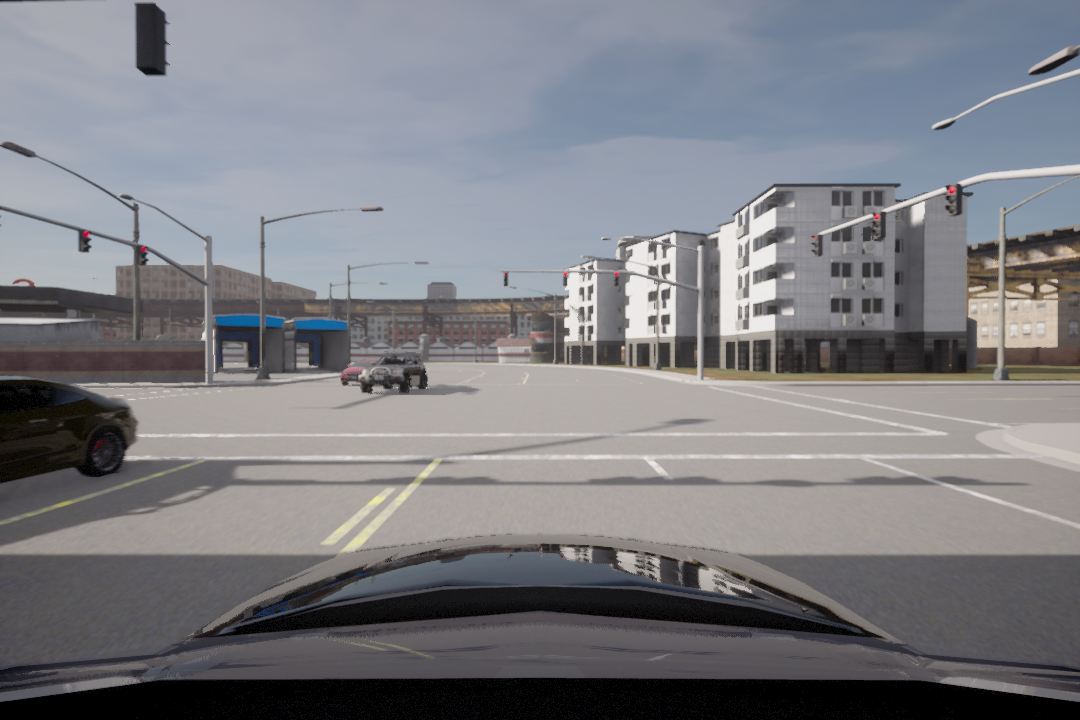TrafficLight: (946, 185, 965, 217), (75, 231, 94, 256), (871, 211, 884, 244), (808, 231, 823, 258), (137, 242, 149, 270), (612, 270, 621, 287), (561, 270, 569, 287), (502, 271, 509, 287)
